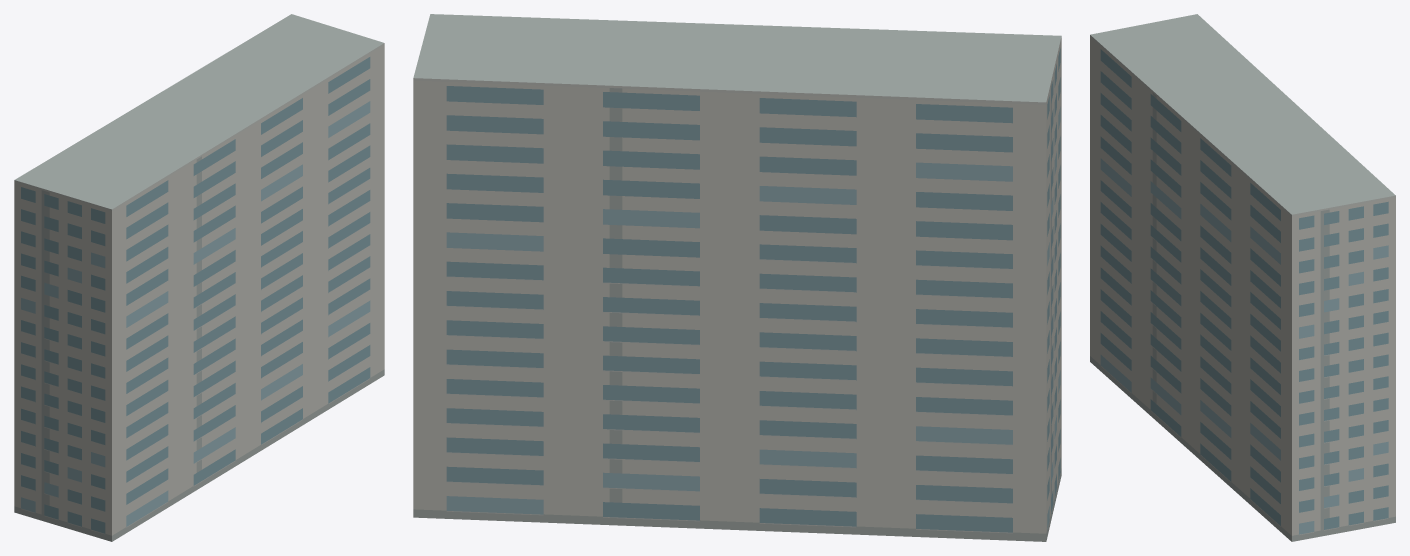
File: residential-fa89eb11-1a4b-4d2c-b716-8d40af40b8ea.glb
3 renders of one model, left to right at view 1: azimuth 30°, elevation 25°; view 2: azimuth 150°, elevation 25°; view 3: azimuth 270°, elevation 25°, orthographic. The views are drawn at different scales.
Visible parts, largest first — view 1: residential-fa89eb11-1a4b-4d2c-b716-8d40af40b8ea.tmp; view 2: residential-fa89eb11-1a4b-4d2c-b716-8d40af40b8ea.tmp; view 3: residential-fa89eb11-1a4b-4d2c-b716-8d40af40b8ea.tmp.
Part boxes in pixels (left/top/right/bottom): residential-fa89eb11-1a4b-4d2c-b716-8d40af40b8ea.tmp: left=14, top=14, right=384, bottom=541; residential-fa89eb11-1a4b-4d2c-b716-8d40af40b8ea.tmp: left=413, top=14, right=1061, bottom=541; residential-fa89eb11-1a4b-4d2c-b716-8d40af40b8ea.tmp: left=1090, top=14, right=1395, bottom=541.
Size of the model in its own units: 60.21 by 45.75 by 38.77.
